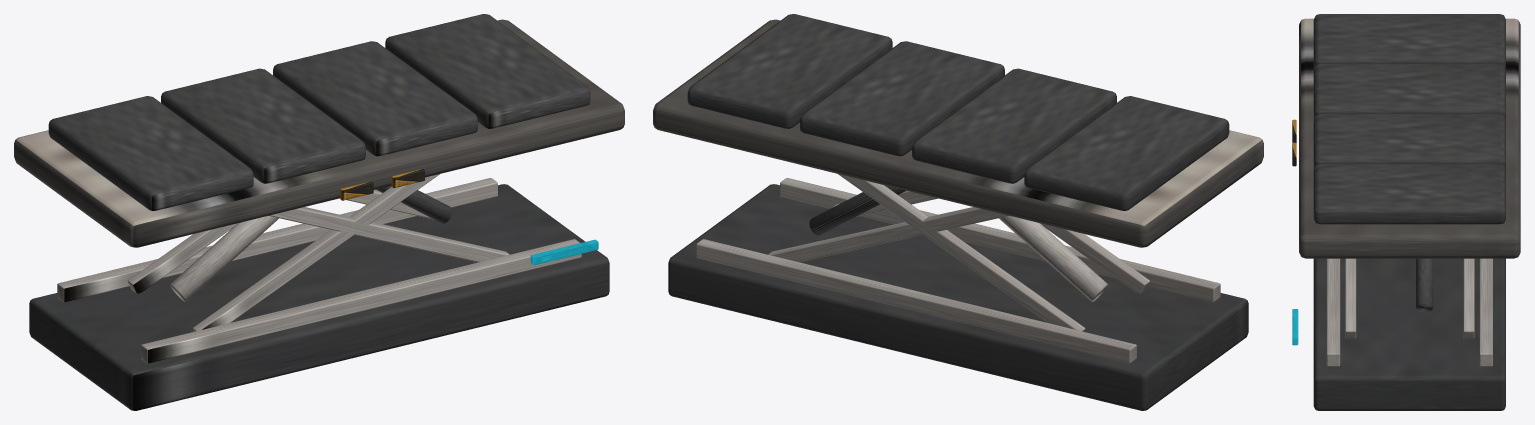
The model's file is room_l1_img2_hydraulic_lift_table.glb.
3 renders of one model, left to right at view 1: azimuth 30°, elevation 25°; view 2: azimuth 150°, elevation 25°; view 3: azimuth 270°, elevation 25°, orthographic. The views are drawn at different scales.
Parts seen in each view (by area): view 1: lift_floor_base, lift_white_rim, lift_black_pad_1, lift_black_pad_4, lift_black_pad_2, lift_black_pad_3, lift_inner_rail_left, lift_inner_rail_right, lift_scissor_back_-0.24, lift_scissor_front_-0.24, lift_hydraulic_piston_left, lift_scissor_back_0.24 (+3 smaller); view 2: lift_floor_base, lift_white_rim, lift_black_pad_1, lift_black_pad_4, lift_black_pad_2, lift_black_pad_3, lift_inner_rail_right, lift_inner_rail_left, lift_scissor_back_0.24, lift_scissor_front_0.24, lift_hydraulic_piston_left, lift_scissor_back_-0.24 (+1 smaller); view 3: lift_floor_base, lift_white_rim, lift_black_pad_4, lift_black_pad_3, lift_black_pad_1, lift_black_pad_2, lift_inner_rail_left, lift_inner_rail_right, lift_scissor_front_-0.24, lift_scissor_front_0.24, lift_hydraulic_piston_right, lift_cyan_status_slot (+1 smaller).
Part boxes in pixels (box(x1,y1,x2,y2)): lift_floor_base: box(29, 184, 609, 410); lift_white_rim: box(14, 19, 624, 247); lift_black_pad_1: box(48, 96, 253, 210); lift_black_pad_4: box(385, 14, 590, 128); lift_black_pad_2: box(161, 68, 365, 183); lift_black_pad_3: box(273, 41, 477, 156); lift_inner_rail_left: box(141, 239, 581, 363); lift_inner_rail_right: box(57, 178, 497, 302); lift_scissor_back_-0.24: box(192, 174, 439, 331); lift_scissor_front_-0.24: box(268, 207, 509, 262); lift_hydraulic_piston_left: box(170, 216, 278, 301); lift_scissor_back_0.24: box(127, 223, 237, 293); lift_floor_base: box(668, 184, 1248, 410); lift_white_rim: box(653, 19, 1263, 247); lift_black_pad_1: box(1024, 96, 1229, 210); lift_black_pad_4: box(687, 14, 892, 128); lift_black_pad_2: box(912, 68, 1116, 183); lift_black_pad_3: box(800, 41, 1004, 156); lift_inner_rail_right: box(696, 239, 1136, 363); lift_inner_rail_left: box(780, 178, 1220, 302); lift_scissor_back_0.24: box(838, 174, 1085, 331); lift_scissor_front_0.24: box(768, 207, 1009, 262); lift_hydraulic_piston_left: box(999, 216, 1107, 301); lift_scissor_back_-0.24: box(1040, 223, 1150, 293); lift_floor_base: box(1313, 258, 1505, 410); lift_white_rim: box(1299, 18, 1520, 258); lift_black_pad_4: box(1313, 164, 1505, 224); lift_black_pad_3: box(1313, 114, 1505, 169); lift_black_pad_1: box(1313, 14, 1505, 68); lift_black_pad_2: box(1313, 64, 1505, 118); lift_inner_rail_left: box(1326, 258, 1340, 366); lift_inner_rail_right: box(1479, 258, 1492, 366); lift_scissor_front_-0.24: box(1345, 258, 1356, 338); lift_scissor_front_0.24: box(1463, 258, 1474, 338); lift_hydraulic_piston_right: box(1416, 258, 1433, 312); lift_cyan_status_slot: box(1292, 309, 1298, 345).
Bounding box in the file's own units: 2.12 × 0.8775 × 0.9275.
6 materials, 6 textured.
